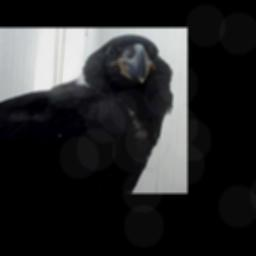Crow: (0, 33, 176, 193)
